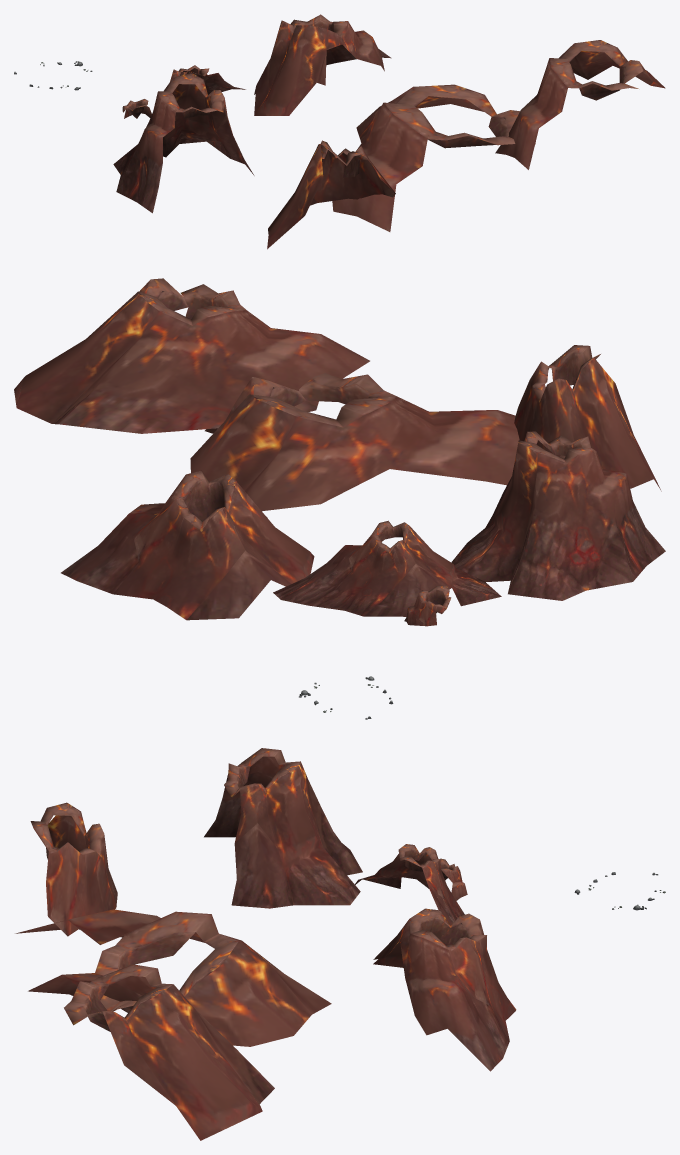
Rendered from boss5_yanshi_1.fbx.
3 views of the same model, one above another, from view 1: azimuth 30°, elevation 25°; view 2: azimuth 150°, elevation 25°; view 3: azimuth 270°, elevation 25° (orthographic). The views are drawn at different scales.
Parts seen in each view (by area): view 1: boss5_yanshi_1; view 2: boss5_yanshi_1; view 3: boss5_yanshi_1.
Part boxes in pixels (x1,y1,x2,y2): boss5_yanshi_1: (14, 14, 665, 249); boss5_yanshi_1: (14, 278, 665, 719); boss5_yanshi_1: (15, 748, 665, 1140).
Bounding box in the file's own units: 12158 × 2568 × 10883.
